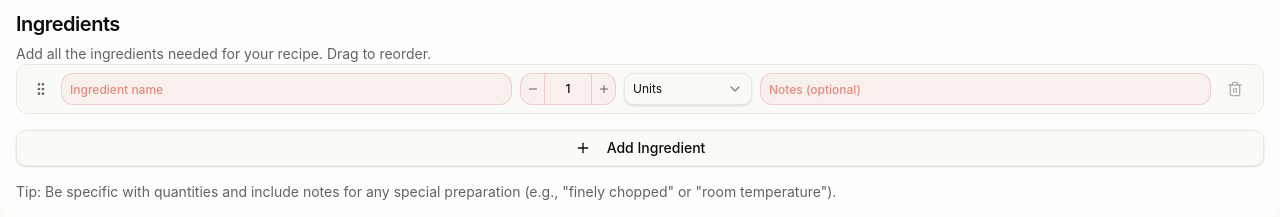
Test case: IngredientsStep › Quantity input smart stepping › should decrement quantity correctly
Note: Set initial value to 2
Replace the text in the number field named "ingredient 1 quantity" with "2" at (568, 89), box left=545, top=81, right=591, bottom=97
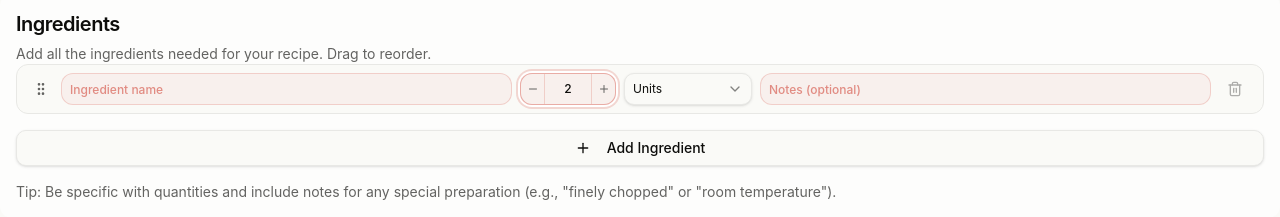
Click the button named "Decrease quantity" at (533, 89), box left=521, top=74, right=545, bottom=104
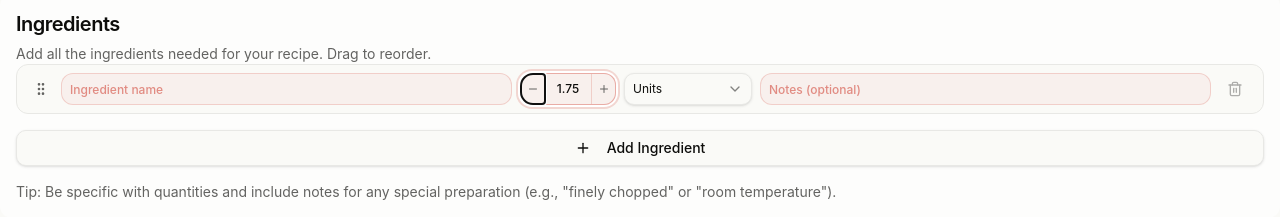
Expected: the number field named "ingredient 1 quantity" holds "1.75", left=545, top=81, right=591, bottom=97
